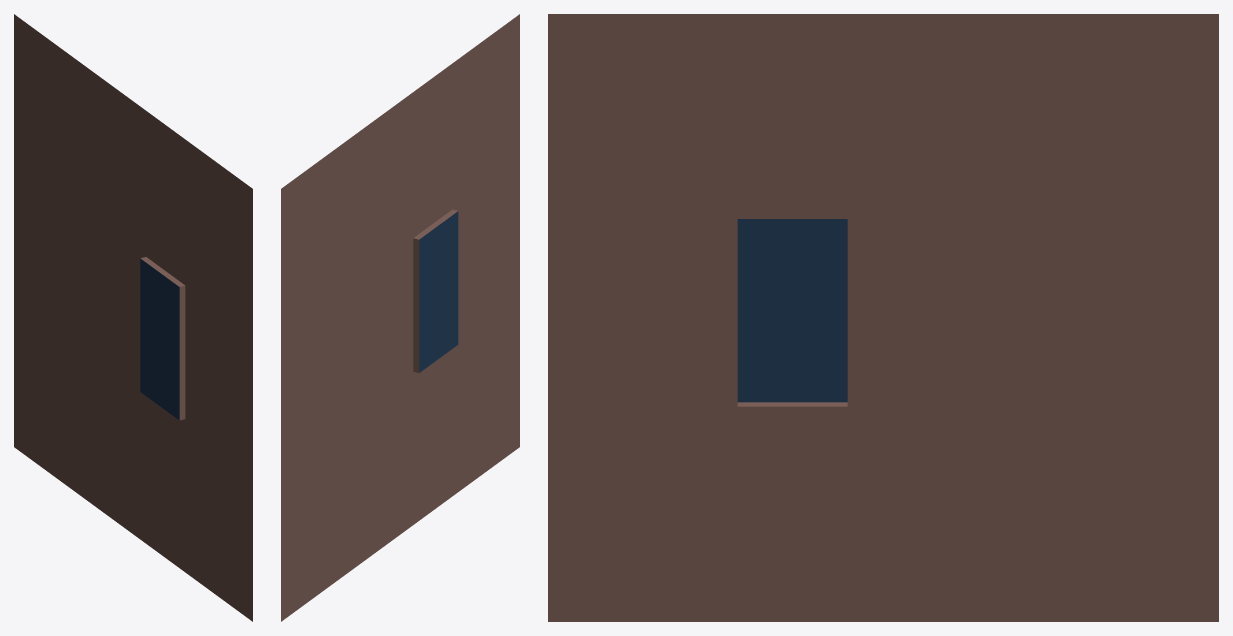
Rendered from mid-w2.fbx.
3 renders of one model, left to right at view 1: azimuth 30°, elevation 25°; view 2: azimuth 150°, elevation 25°; view 3: azimuth 270°, elevation 25°, orthographic. The views are drawn at different scales.
Parts seen in each view (by area): view 1: mid-w2; view 2: mid-w2; view 3: mid-w2.
Boxes of the visible parts, x1,y1,x2,y2 form: mid-w2: (14,14,252,621); mid-w2: (281,14,519,621); mid-w2: (548,14,1218,621).
Bounding box in the file's own units: 0.0433 × 3 × 3.
